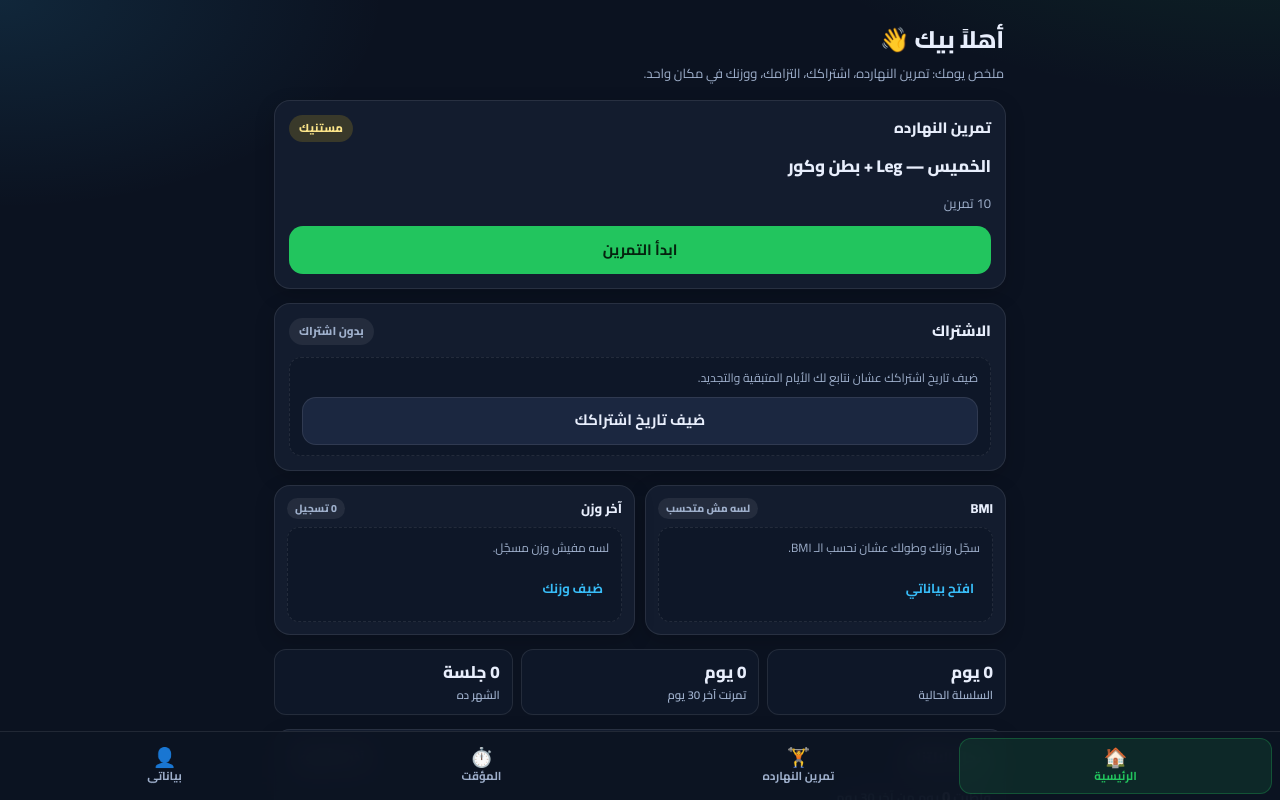
App navigation › navigates between the four tabs
Expected: the heading "أهلاً بيك 👋" is shown, [880,17,1004,62]
Click the link "🏋️ تمرين النهارده" at (799, 763), box [763,739,834,787]
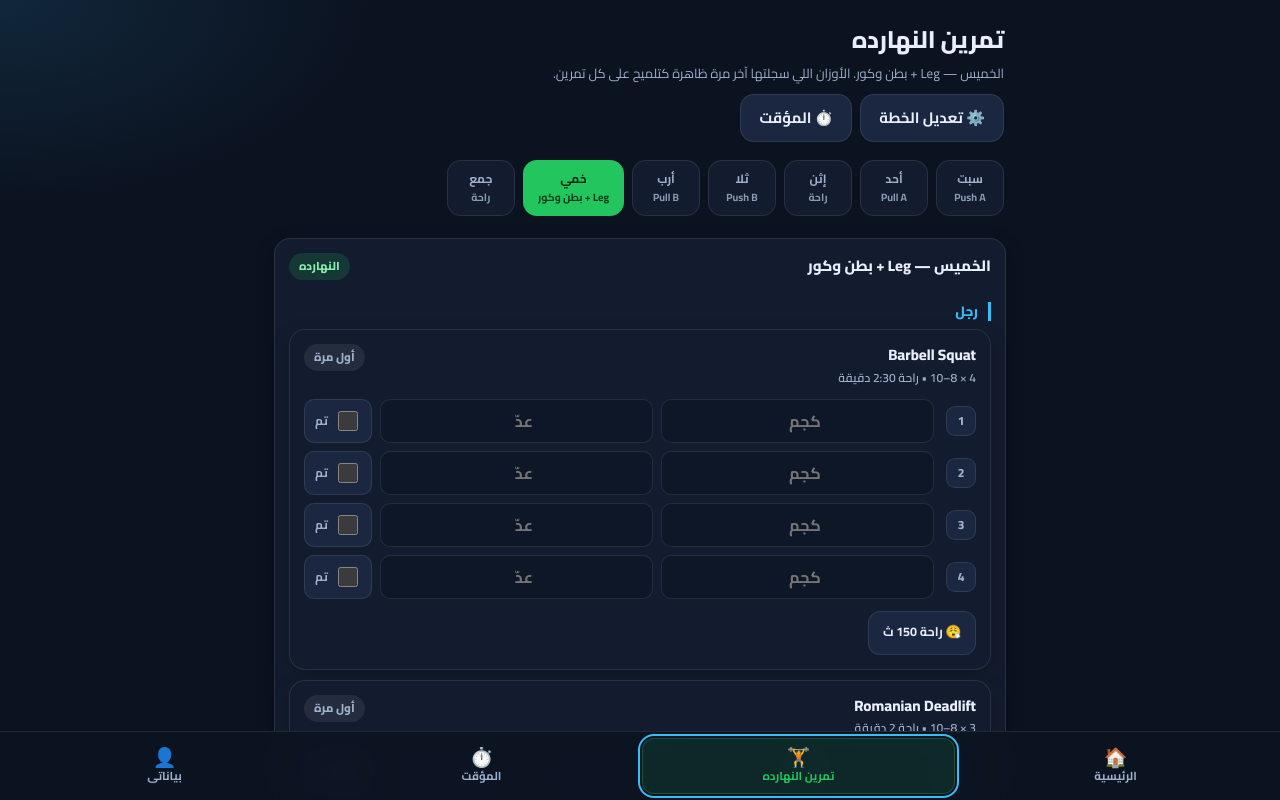
Result: the heading "تمرين النهارده" is shown at [852,17,1004,62]
Click the link "⏱️ المؤقت" next to "بياناتي" at (482, 763), box [462,739,501,787]
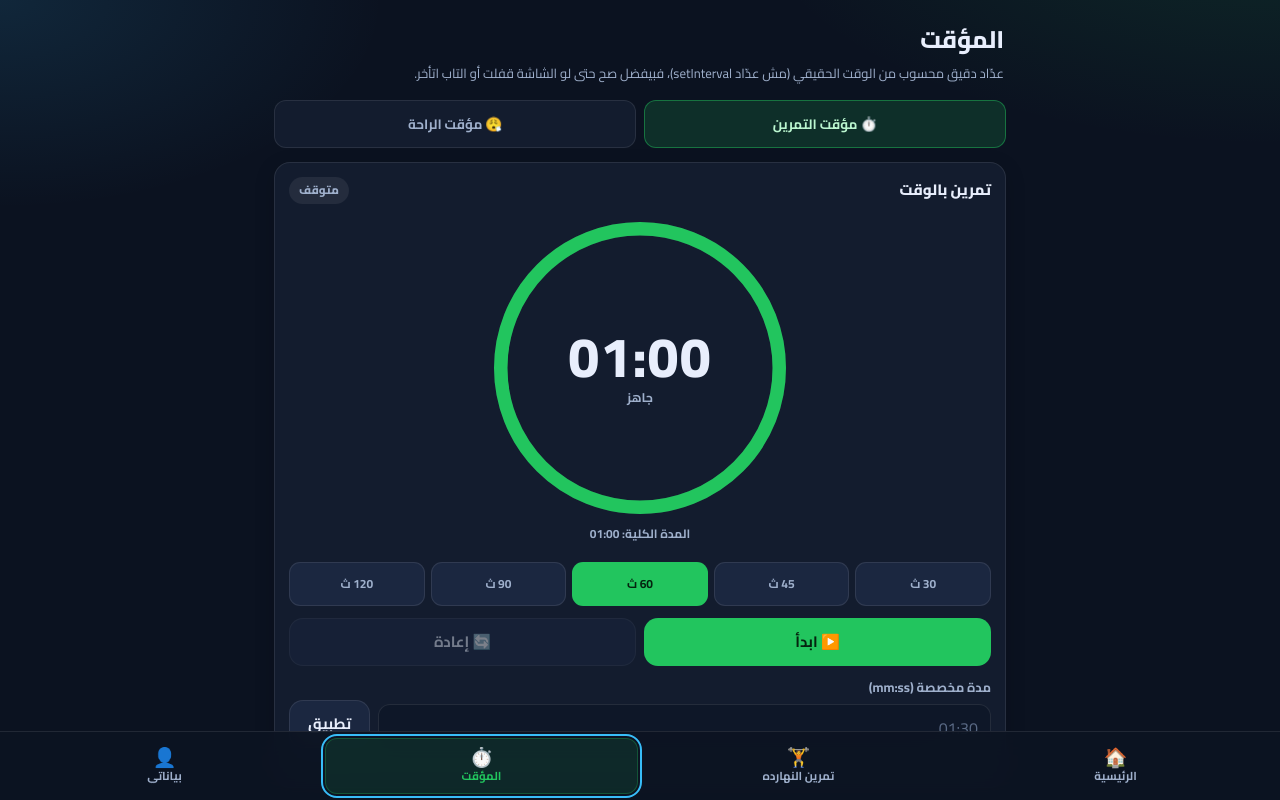
Result: the heading "المؤقت" is shown at [920,17,1004,62]
Click the link "👤 بياناتي" at (165, 763), box [147,739,182,787]
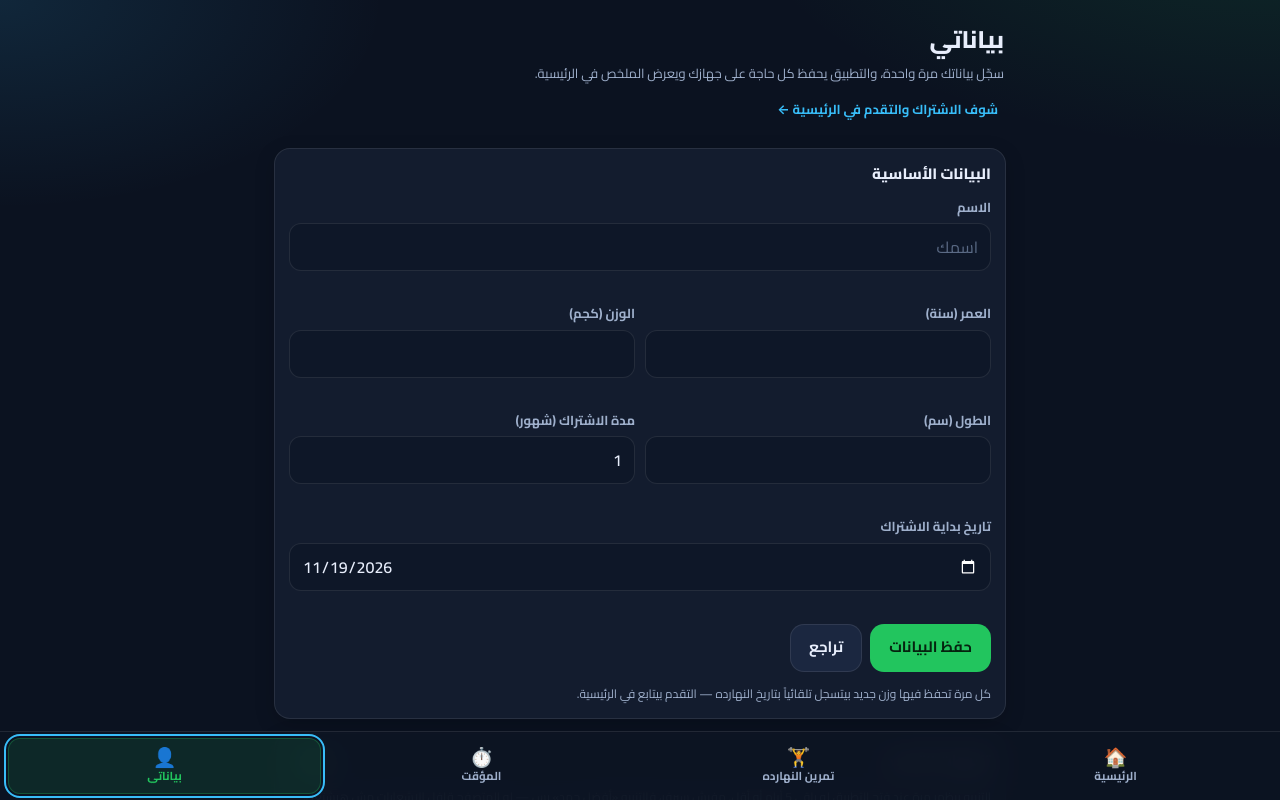
Result: the heading "بياناتي" is shown at [929,17,1004,62]
Click the link "🏠 الرئيسية" at (1116, 763), box [1094,739,1137,787]
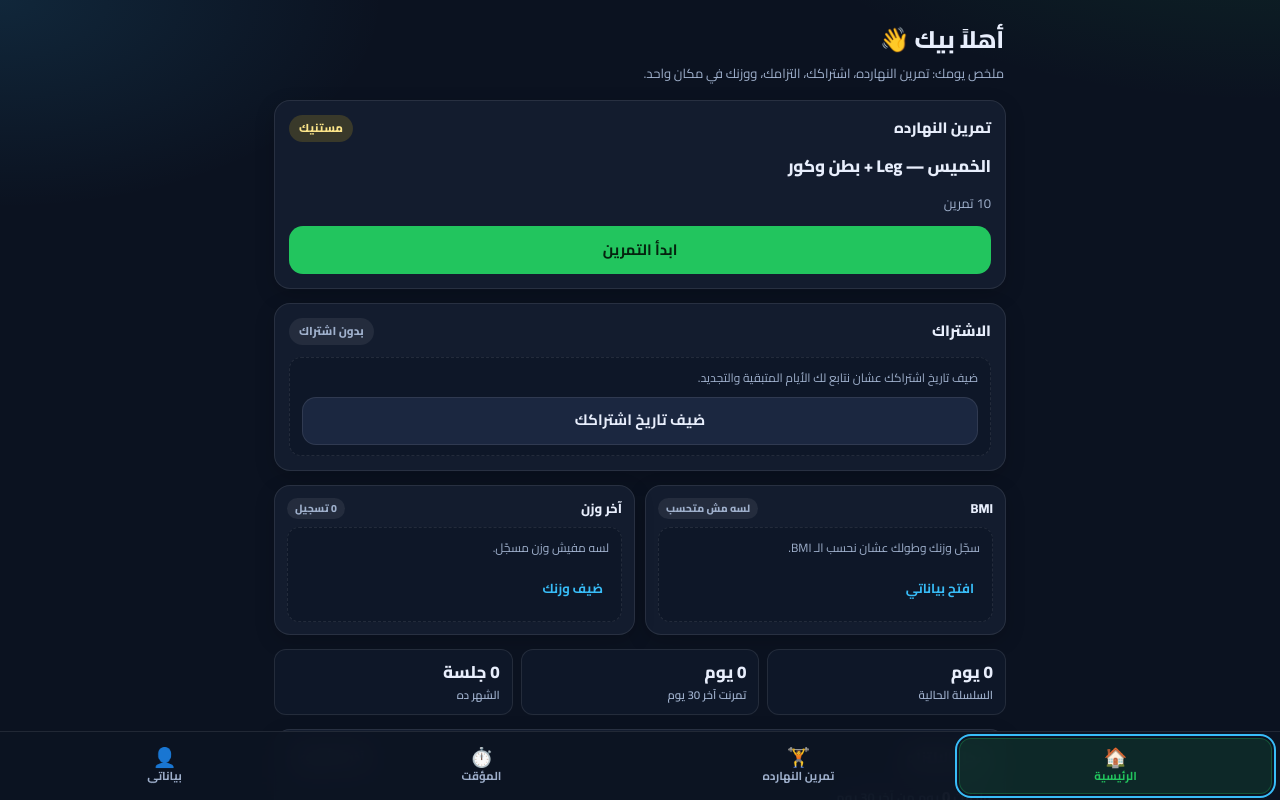
Result: the heading "أهلاً بيك 👋" is shown at [880,17,1004,62]
